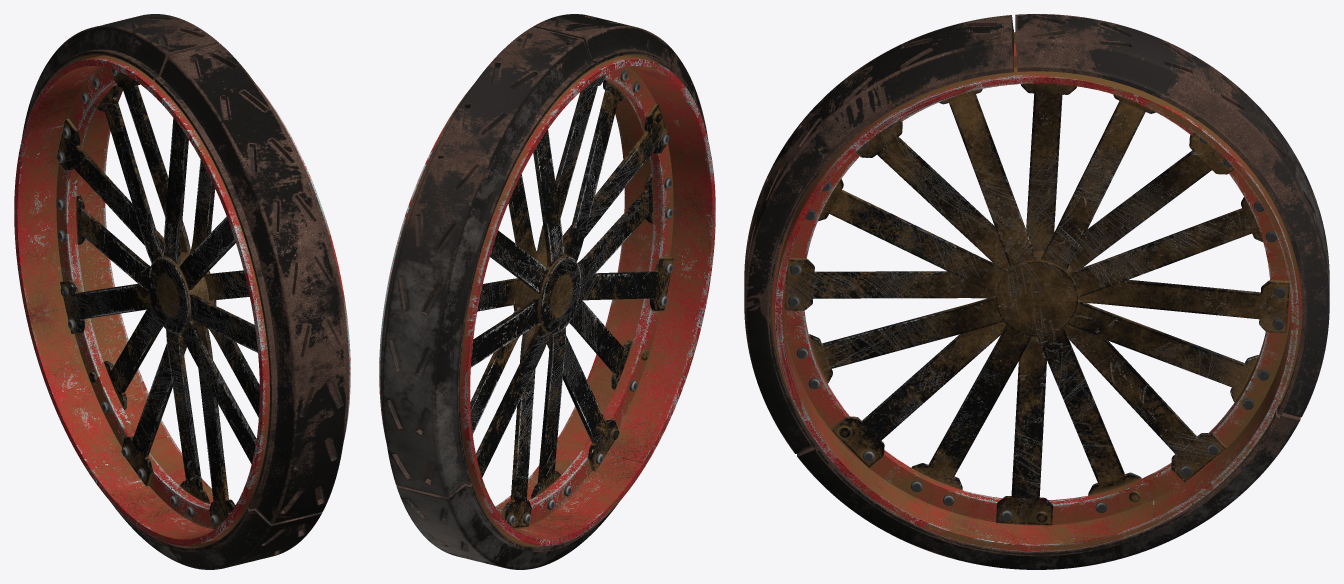
The model's file is LlantaTraseraMoto.obj.
3 renders of one model, left to right at view 1: azimuth 30°, elevation 25°; view 2: azimuth 150°, elevation 25°; view 3: azimuth 270°, elevation 25°, orthographic. The views are drawn at different scales.
Parts seen in each view (by area): view 1: Extruded.003_Tire; view 2: Extruded.003_Tire; view 3: Extruded.003_Tire.
Boxes of the visible parts, x1,y1,x2,y2 form: Extruded.003_Tire: [14, 14, 350, 569]; Extruded.003_Tire: [379, 14, 715, 569]; Extruded.003_Tire: [744, 14, 1329, 569].
Size of the model in its own units: 0.1852 by 1.02 by 1.02.
